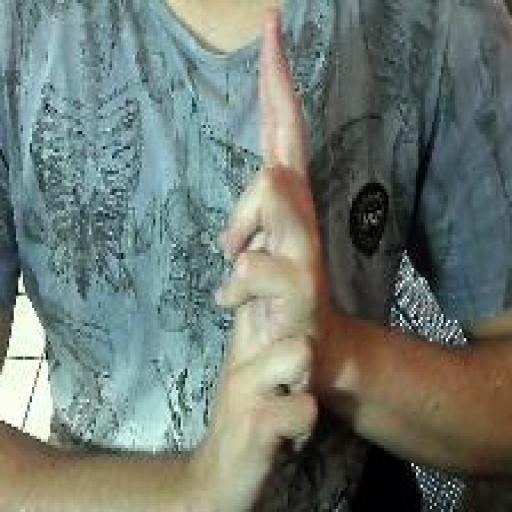Hitsuji -ram-: (209, 6, 326, 509)
